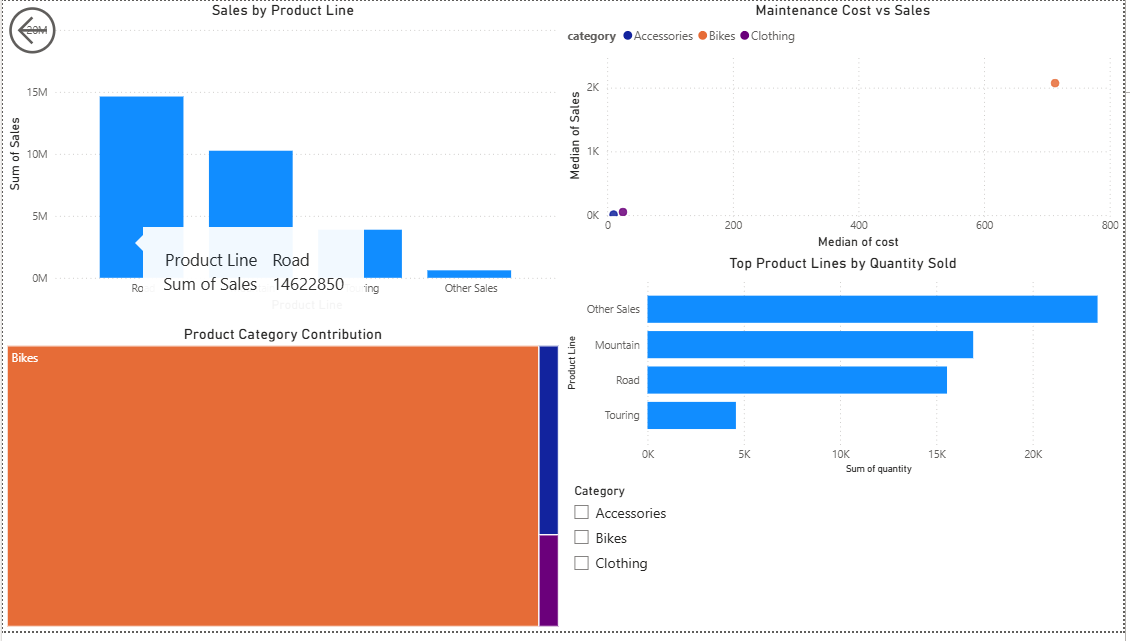

The page's visual inventory and layout, read from the dashboard file:
{"tool":"powerbi","page":{"name":"Product Performance Dashboard","canvas":[1280,720],"ordinal":3},"visuals":[{"type":"columnChart","title":"Sales by Product Line","fields":{"Category":["gold dim_products.product_line"],"Y":["Sum(gold fact_sales.sales_amount)"]},"box":[0,0,640,360.3],"z":0},{"type":"treemap","title":"Product Category Contribution","fields":{"Group":["gold dim_products.category"],"Values":["Sum(gold fact_sales.sales_amount)"]},"box":[0,370,640,350],"z":1000},{"type":"scatterChart","title":"Maintenance Cost vs Sales","fields":{"X":["Median(gold dim_products.cost)"],"Y":["Median(gold fact_sales.sales_amount)"],"Category":["gold dim_products.category"],"Series":["gold dim_products.category"]},"box":[640,0,640,288.6],"z":2000},{"type":"clusteredBarChart","title":"Top Product Lines by Quantity Sold","fields":{"Category":["gold dim_products.product_line"],"Y":["Sum(gold fact_sales.quantity)"]},"box":[640,288.6,640,257.1],"z":3000},{"type":"actionButton","box":[0,0,100,67.1],"z":4000},{"type":"slicer","fields":{"Values":["gold dim_products.category"]},"box":[640,545.7,640,174.3],"z":4001}]}

Visuals, with their boxes in screenshot pixels (x1, y1, x2, y2), scaled from the page's 1280x720 canvas onto the 1130x641 screenshot:
"Sales by Product Line" columnChart: {"x1": 0, "y1": 0, "x2": 565, "y2": 321}
"Product Category Contribution" treemap: {"x1": 0, "y1": 329, "x2": 565, "y2": 640}
"Maintenance Cost vs Sales" scatterChart: {"x1": 565, "y1": 0, "x2": 1129, "y2": 257}
"Top Product Lines by Quantity Sold" clusteredBarChart: {"x1": 565, "y1": 257, "x2": 1129, "y2": 486}
actionButton: {"x1": 0, "y1": 0, "x2": 88, "y2": 60}
slicer - gold dim_products.category: {"x1": 565, "y1": 486, "x2": 1129, "y2": 640}
